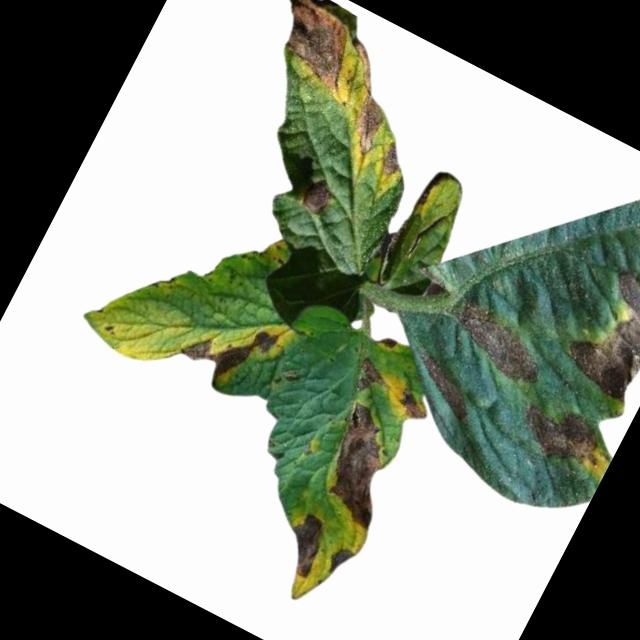Early_blight: (219, 1, 425, 156), (307, 399, 421, 530), (557, 259, 640, 408), (174, 295, 283, 399), (441, 299, 557, 391), (512, 390, 623, 483), (404, 352, 486, 422), (273, 508, 334, 581), (373, 137, 414, 181), (300, 175, 338, 215), (352, 357, 389, 398), (323, 539, 359, 579), (396, 389, 432, 422), (377, 330, 401, 351)
